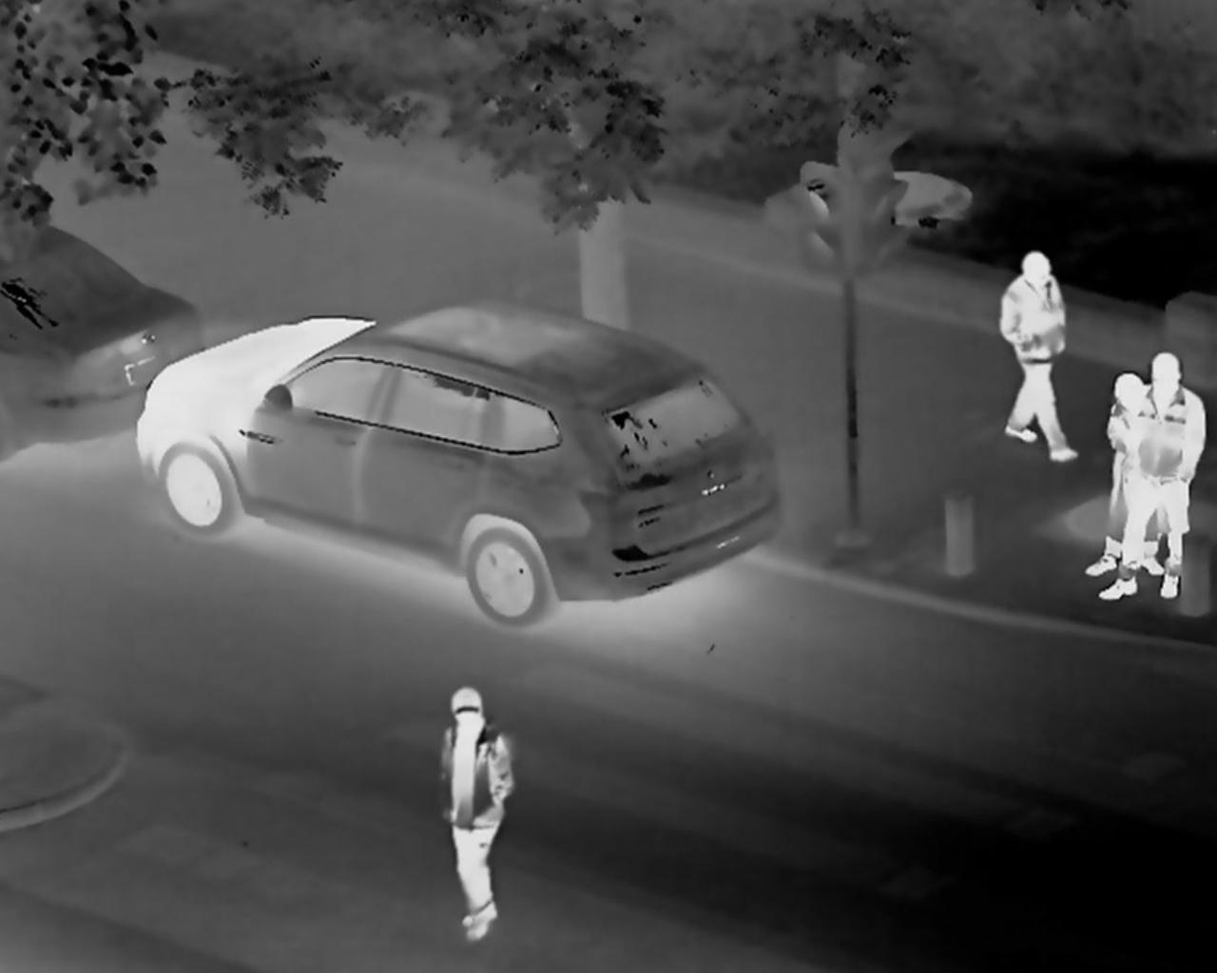person: (428, 688, 529, 940), (1101, 331, 1188, 620), (982, 231, 1074, 467)
